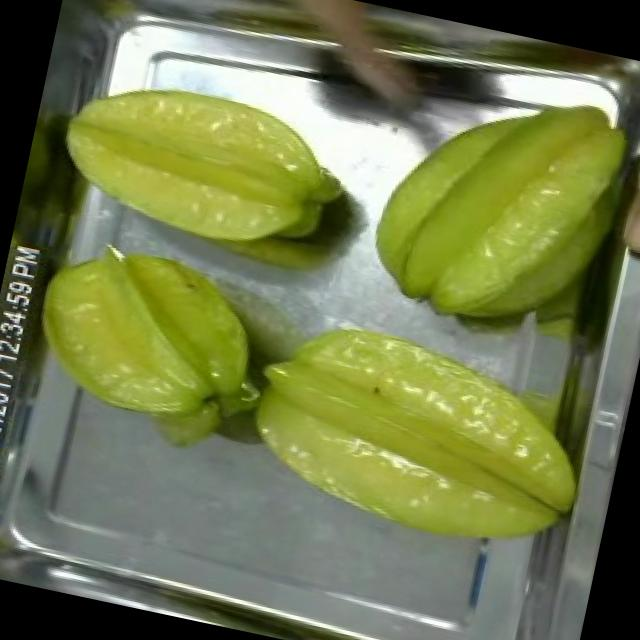fruit: (222, 296, 606, 578), (340, 54, 640, 364), (32, 46, 374, 283), (12, 222, 282, 448)
